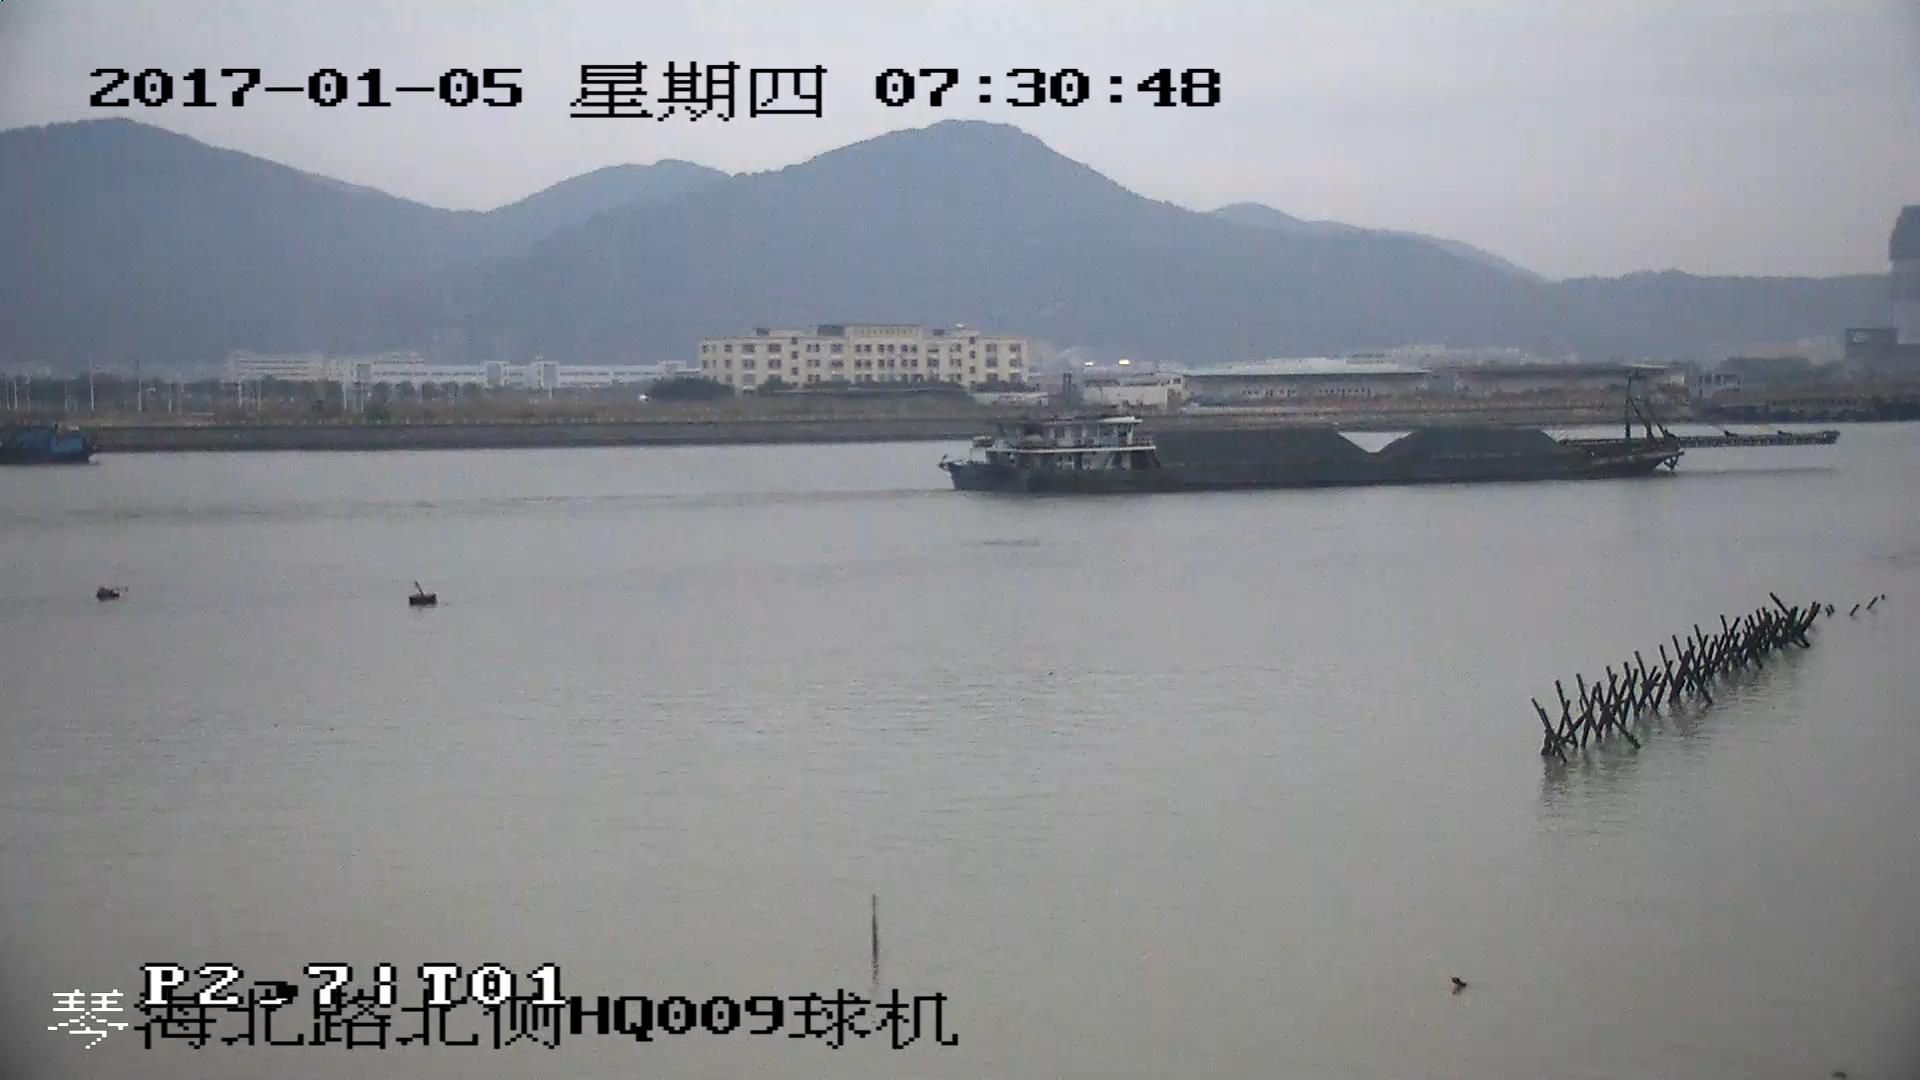ore carrier: (948, 377, 1843, 499)
